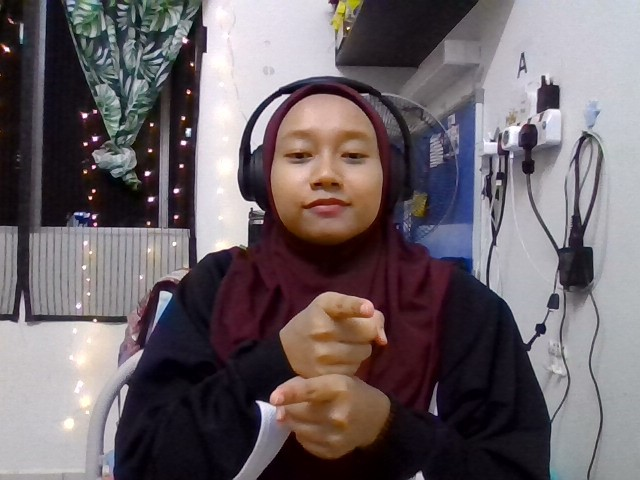Betul: (269, 291, 387, 458)
